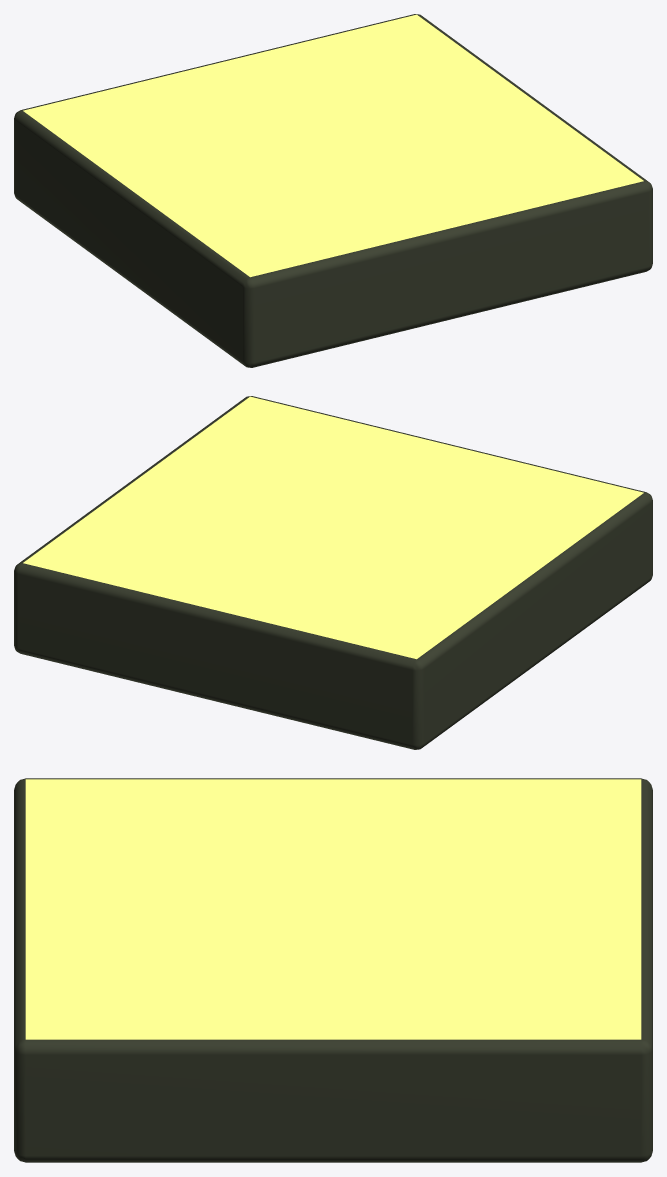
The model's file is SM_ArenaTile.glb.
The picture shows the model from 3 angles, top to bottom: view 1: azimuth 30°, elevation 25°; view 2: azimuth 150°, elevation 25°; view 3: azimuth 270°, elevation 25°; orthographic projection. The views are drawn at different scales.
Parts seen in each view (by area): view 1: SM_ArenaTile; view 2: SM_ArenaTile; view 3: SM_ArenaTile.
Boxes of the visible parts, x1=… form: SM_ArenaTile: x1=14, y1=14, x2=652, y2=367; SM_ArenaTile: x1=14, y1=396, x2=652, y2=749; SM_ArenaTile: x1=14, y1=778, x2=652, y2=1162.
Size of the model in its own units: 1.9 by 0.4 by 1.9.
